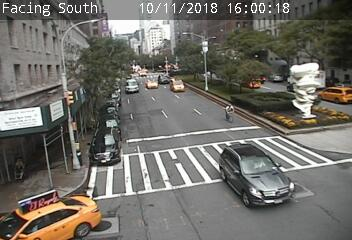car: (220, 145, 295, 207), (1, 196, 101, 240), (171, 79, 184, 91), (158, 75, 170, 84), (146, 81, 159, 88), (138, 71, 147, 77)
